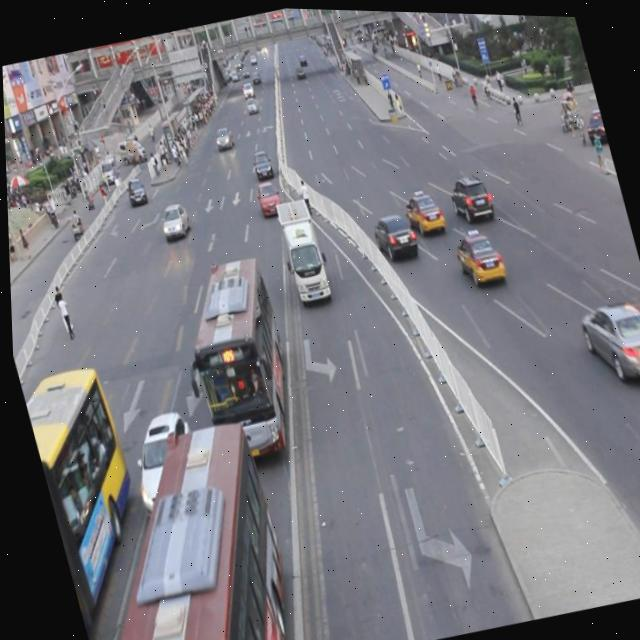bus: (269, 194, 333, 304)
car: (119, 404, 206, 517), (572, 289, 640, 385), (449, 223, 504, 286), (445, 170, 494, 221), (367, 206, 415, 256), (399, 184, 445, 234), (154, 199, 190, 238), (251, 177, 281, 214), (248, 147, 271, 177)
van: (35, 412, 303, 640), (15, 360, 162, 637), (161, 251, 304, 465)
